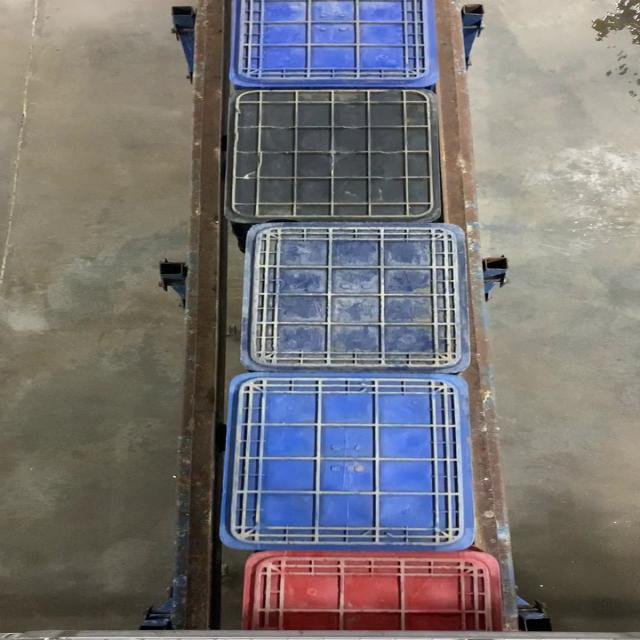Box: (216, 374, 476, 552), (244, 224, 472, 374)
Damaged_box: (226, 87, 447, 224)
